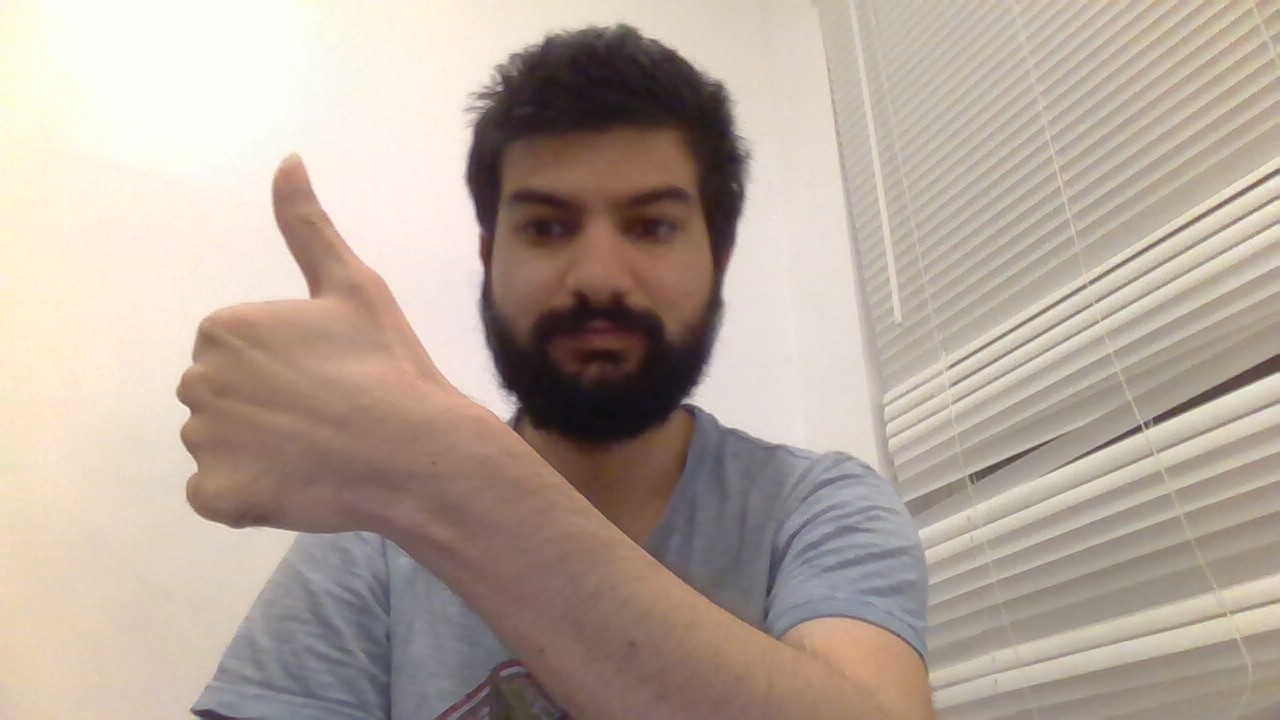up: (158, 142, 421, 540)
